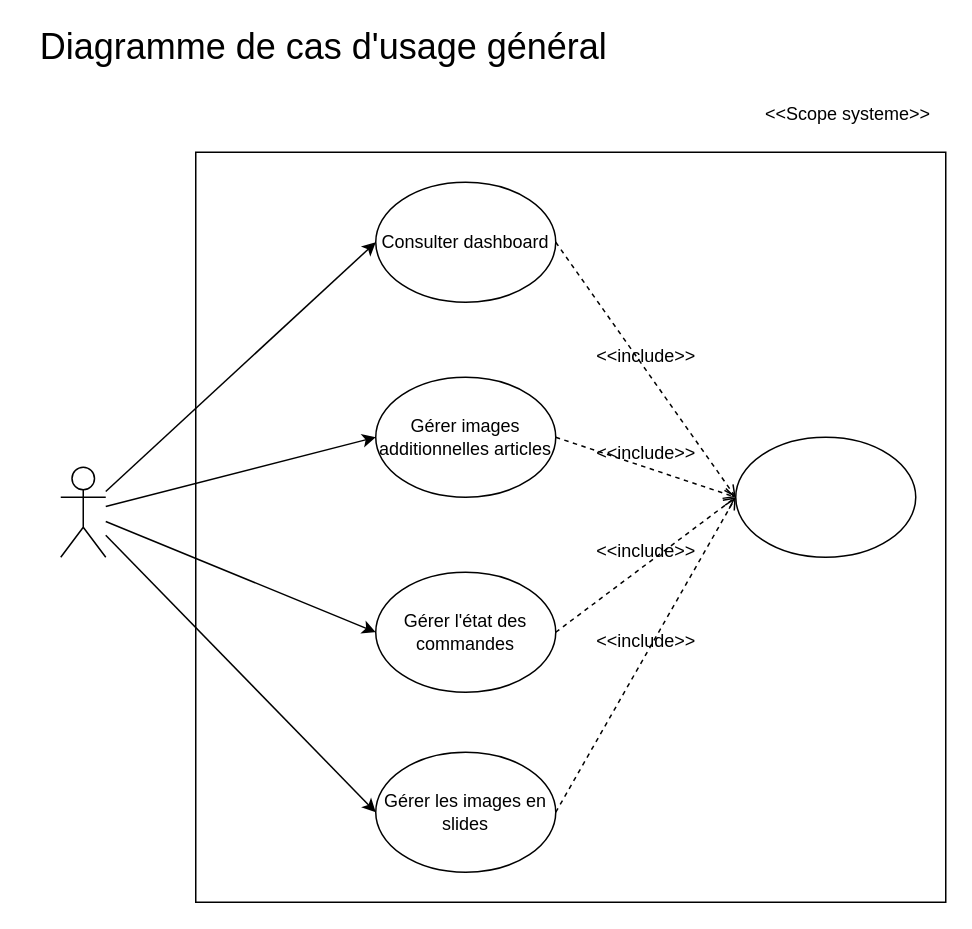
This 972x929 diagram has some shape labels left out. Here are the shapes that lost their labels. From the top down, the centre of each, then its label:
At (x=82, y=511): "Administrateur".
At (x=825, y=496): "Se connecter".
